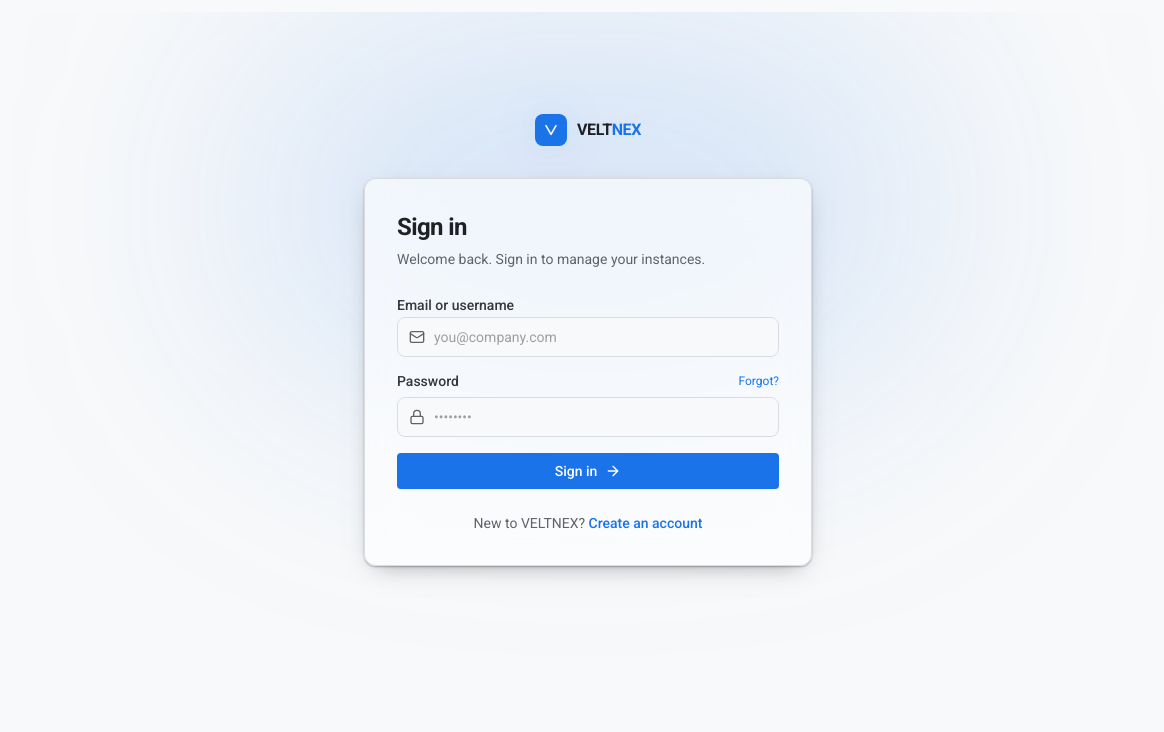
Scenario: Immediate first-login onboarding › lands accounts with completed onboarding on their dashboard
Type "owner@example.com" into the field labelled "Email or username" at (588, 337), box [397,317,779,357]
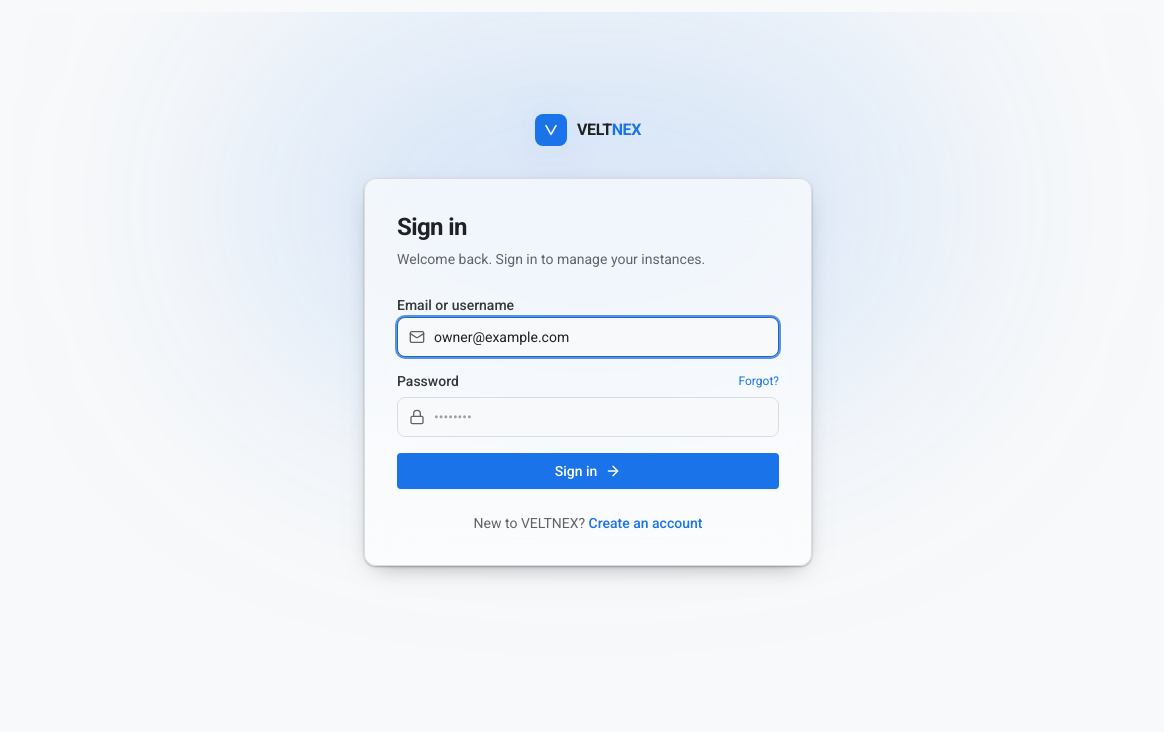
Type "OwnPassword123!" into the password field labelled "Password" at (588, 417), box [397,397,779,437]
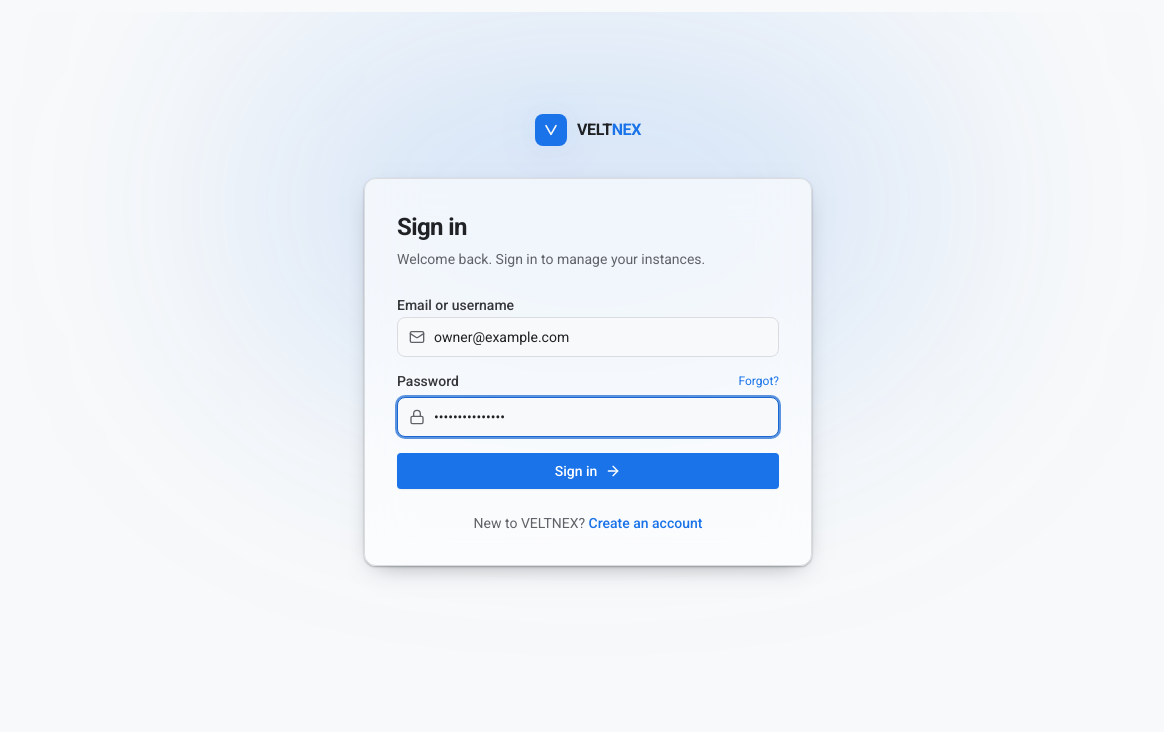
Click the button "Sign in" at (588, 471), box [397,453,779,489]
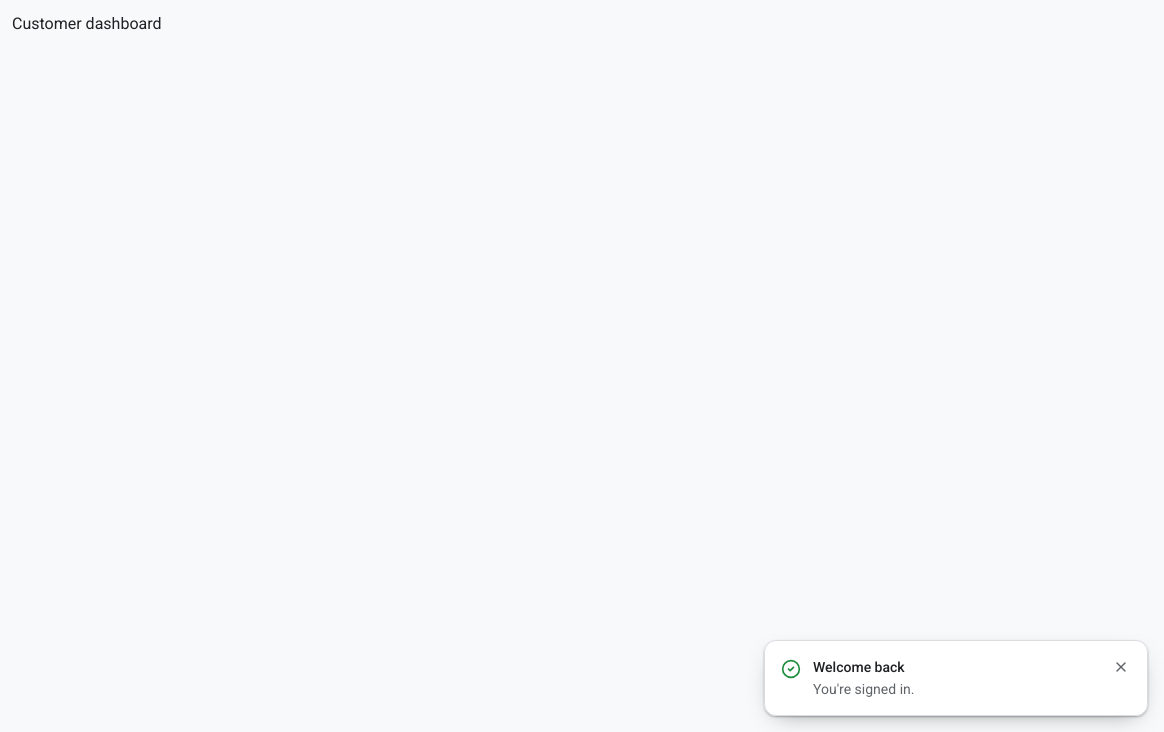
Now the heading "Customer dashboard" is shown, box [12,14,162,33]
